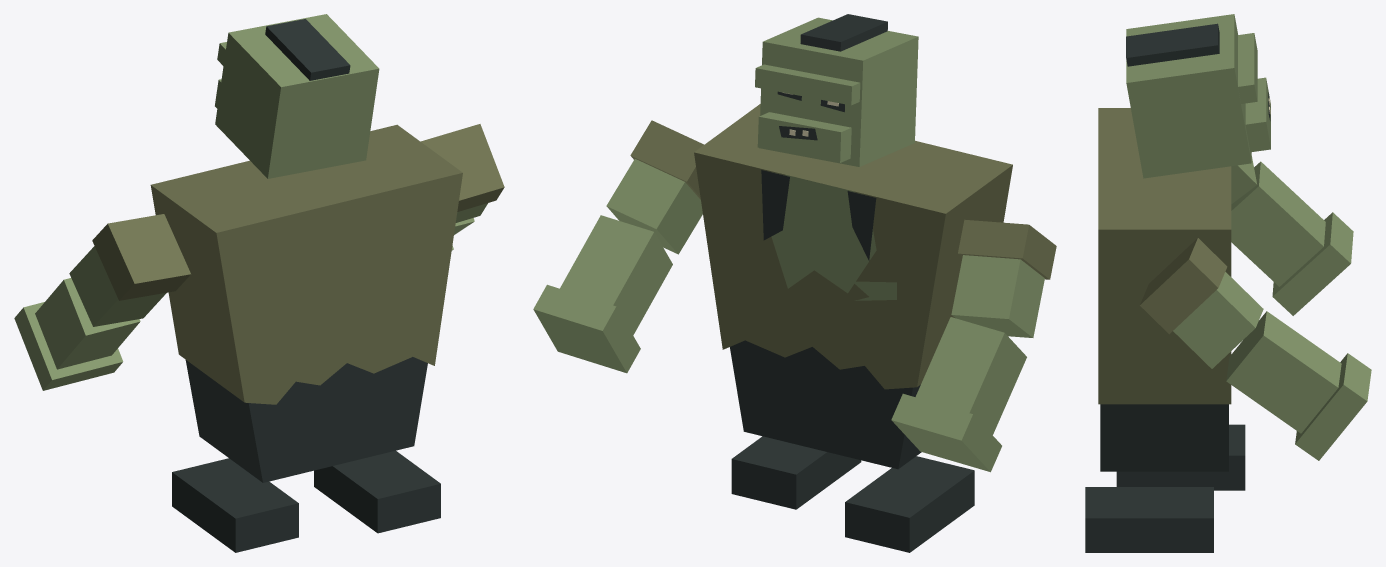
Rendered from zombie_strong.glb.
3 views of the same model, side by side, from view 1: azimuth 30°, elevation 25°; view 2: azimuth 150°, elevation 25°; view 3: azimuth 270°, elevation 25° (orthographic). The views are drawn at different scales.
Visible parts, largest first — view 1: body, head, armLeft, ShoeLeft, handLeft, ShoeRight, armRight; view 2: body, head, handRight, handLeft, armLeft, ShoeLeft, armRight, ShoeRight; view 3: body, head, handRight, handLeft, armRight, ShoeRight, ShoeLeft, armLeft.
Part boxes in pixels (x1,y1,x2,y2): body: [150, 124, 462, 482]; head: [215, 14, 379, 178]; armLeft: [69, 214, 190, 326]; ShoeLeft: [172, 458, 298, 552]; handLeft: [14, 278, 140, 390]; ShoeRight: [314, 450, 440, 533]; armRight: [420, 124, 504, 222]; body: [694, 104, 1012, 469]; head: [755, 14, 918, 166]; handRight: [533, 215, 672, 373]; handLeft: [891, 317, 1026, 472]; armLeft: [951, 219, 1056, 337]; ShoeLeft: [845, 456, 974, 552]; armRight: [606, 120, 703, 254]; ShoeRight: [731, 436, 861, 509]; body: [1098, 108, 1231, 471]; head: [1126, 14, 1270, 178]; handRight: [1226, 311, 1371, 460]; handLeft: [1231, 161, 1353, 315]; armRight: [1140, 238, 1263, 368]; ShoeRight: [1085, 487, 1213, 552]; ShoeLeft: [1116, 424, 1245, 490]; armLeft: [1231, 156, 1257, 203].
Bounding box in the file's own units: 1.76 × 1.92 × 1.05.
